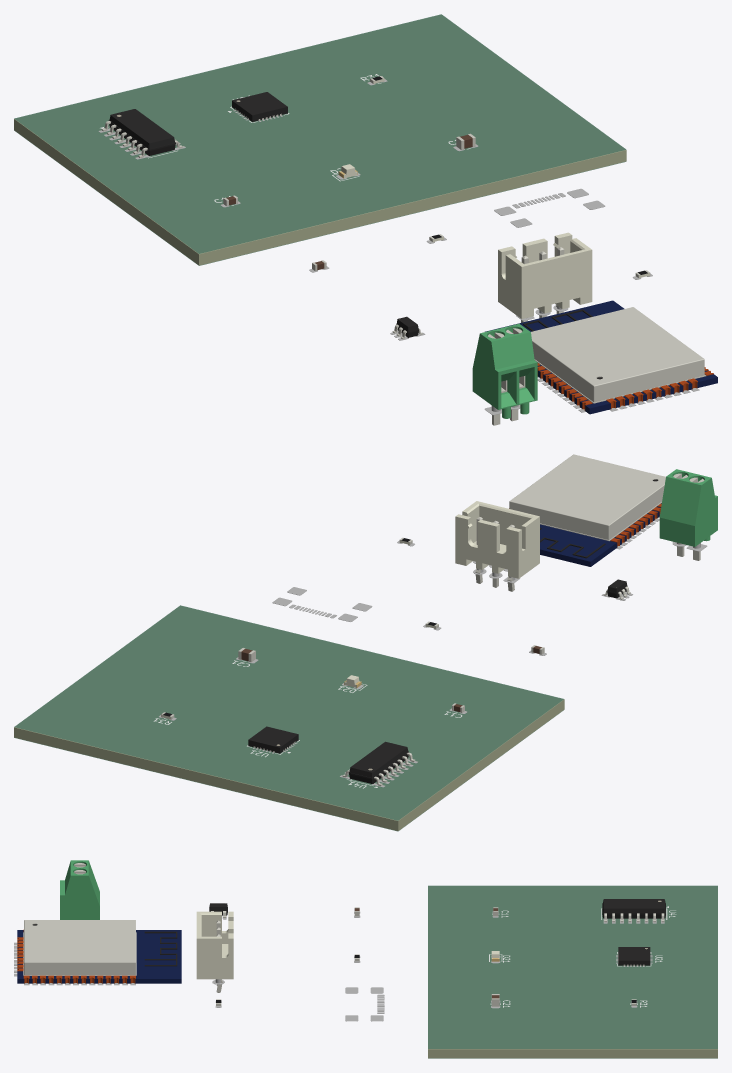
The picture shows the model from 3 angles, top to bottom: view 1: azimuth 30°, elevation 25°; view 2: azimuth 150°, elevation 25°; view 3: azimuth 270°, elevation 25°; orthographic projection. The views are drawn at different scales.
Visible parts, largest first — view 1: =>[0:1:1:16], =>[0:1:1:14], U11, J41, J21, =>[0:1:1:12], U41, U21; view 2: =>[0:1:1:16], =>[0:1:1:14], U11, J41, J21, =>[0:1:1:12], U41, U21; view 3: =>[0:1:1:16], =>[0:1:1:14], U11, J41, J21, U41, =>[0:1:1:12], U21.
Part boxes in pixels (x1,y1,x2,y2): =>[0:1:1:16]: (14, 15, 626, 265); =>[0:1:1:14]: (14, 14, 626, 253); U11: (485, 300, 717, 414); J41: (498, 232, 592, 322); J21: (472, 323, 537, 425); =>[0:1:1:12]: (98, 79, 699, 415); U41: (101, 109, 182, 158); U21: (232, 92, 287, 121); =>[0:1:1:16]: (14, 606, 564, 830); =>[0:1:1:14]: (14, 605, 563, 820); U11: (509, 454, 665, 566); J41: (455, 501, 539, 591); J21: (659, 469, 717, 560); =>[0:1:1:12]: (159, 517, 707, 787); U41: (342, 741, 415, 785); U21: (248, 726, 298, 753); =>[0:1:1:16]: (428, 886, 717, 1058); =>[0:1:1:14]: (428, 885, 717, 1048); U11: (17, 920, 181, 983); J41: (196, 911, 233, 992); J21: (60, 860, 99, 919); U41: (602, 899, 665, 922); =>[0:1:1:12]: (14, 911, 664, 1021); U21: (618, 947, 650, 965).
Bounding box in the file's own units: 0.06 × 0.012 × 0.1093.
